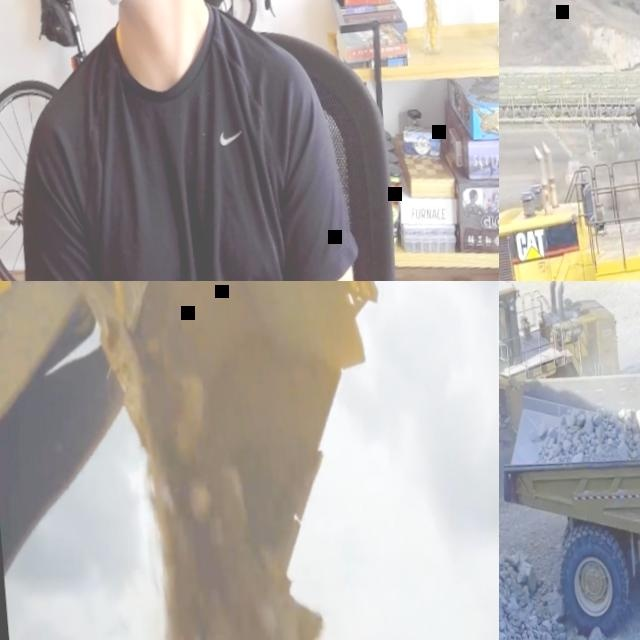NO-Safety Vest: (51, 6, 305, 281)
Person: (0, 0, 365, 281)
machinery: (0, 281, 400, 576), (499, 325, 640, 640), (499, 281, 639, 531), (499, 58, 640, 281)
